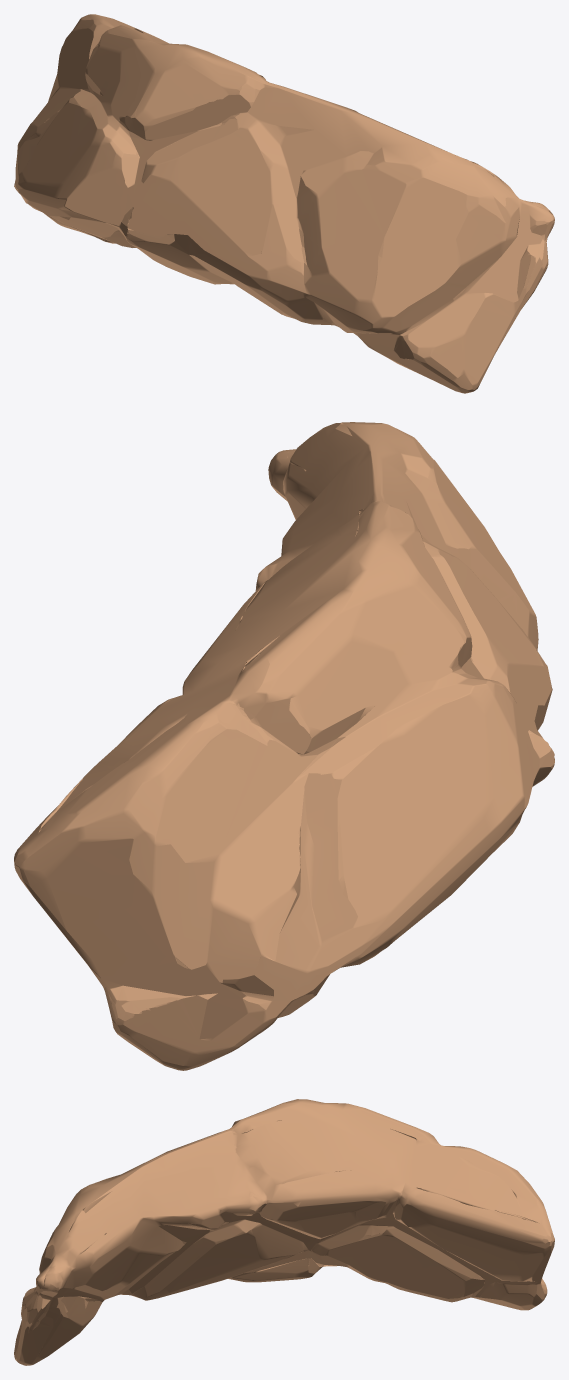
3 views of the same model, one above another, from view 1: azimuth 30°, elevation 25°; view 2: azimuth 150°, elevation 25°; view 3: azimuth 270°, elevation 25° (orthographic). The views are drawn at different scales.
Parts seen in each view (by area): view 1: Mesh_31_LOD0; view 2: Mesh_31_LOD0; view 3: Mesh_31_LOD0.
Part boxes in pixels (left/top/right/bottom): Mesh_31_LOD0: left=14, top=14, right=554, bottom=393; Mesh_31_LOD0: left=14, top=422, right=554, bottom=1070; Mesh_31_LOD0: left=14, top=1099, right=554, bottom=1365.
Size of what is drawn, in the model's own units: 2015 by 1503 by 3431.
